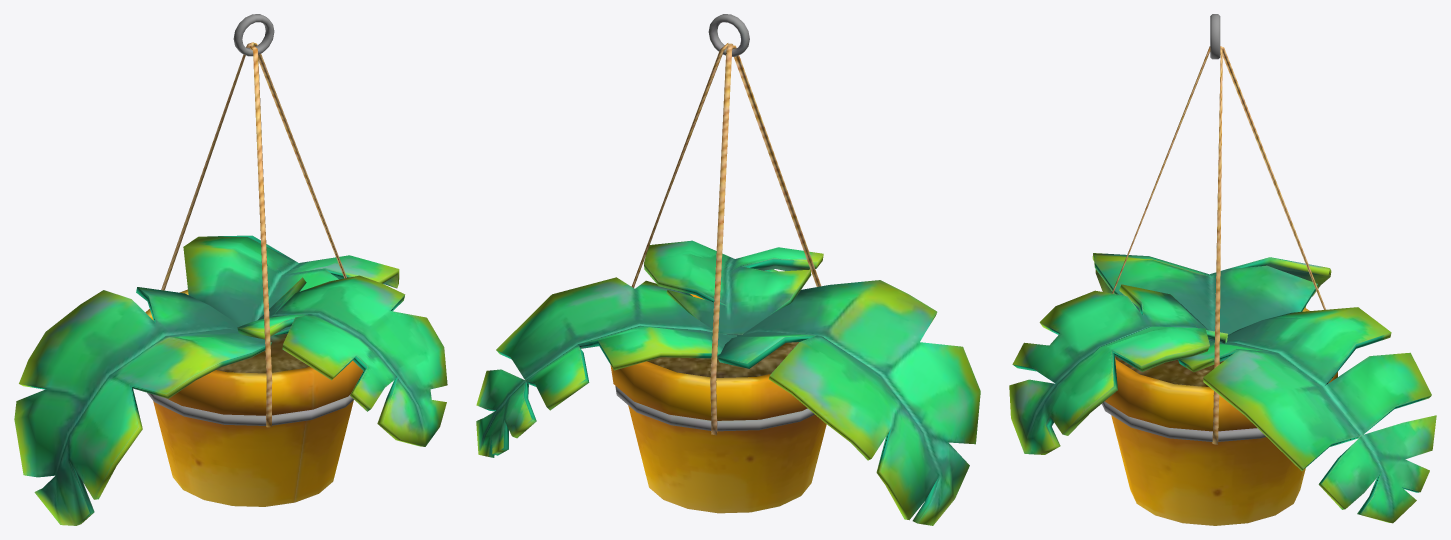
File: hanging-planter.glb
3 views of the same model, side by side, from view 1: azimuth 30°, elevation 25°; view 2: azimuth 150°, elevation 25°; view 3: azimuth 270°, elevation 25° (orthographic). The views are drawn at different scales.
Parts seen in each view (by area): view 1: Planter_0; view 2: Planter_0; view 3: Planter_0.
Boxes of the visible parts, x1=… form: Planter_0: x1=14, y1=14, x2=447, y2=525; Planter_0: x1=476, y1=14, x2=980, y2=525; Planter_0: x1=1009, y1=14, x2=1436, y2=525.
Bounding box in the file's own units: 0.8393 × 0.9351 × 0.7619.
1 material, 1 textured.
